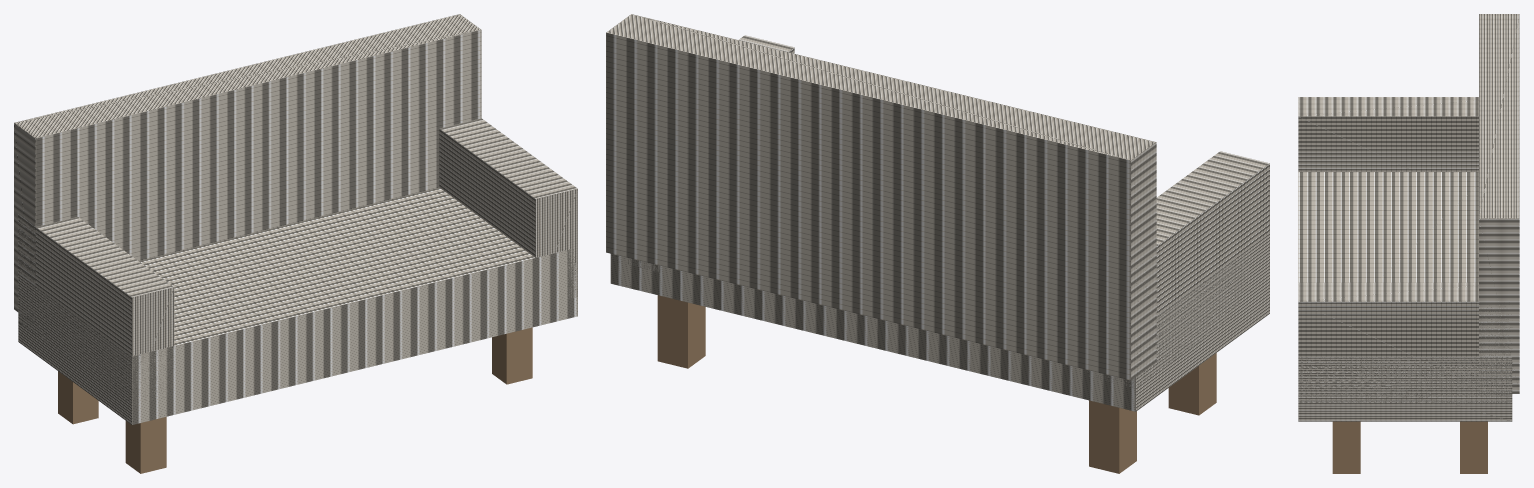
File: sofa.glb
The picture shows the model from 3 angles, left to right: view 1: azimuth 30°, elevation 25°; view 2: azimuth 150°, elevation 25°; view 3: azimuth 270°, elevation 25°; orthographic projection. The views are drawn at different scales.
Visible parts, largest first — view 1: Soffa; view 2: Soffa; view 3: Soffa.
Part boxes in pixels (x1,y1,x2,y2): Soffa: (14,14,577,473); Soffa: (606,14,1269,473); Soffa: (1298,14,1519,473).
Size of the model in its own units: 1.9 by 1.16 by 0.87.
2 materials, 1 textured.
